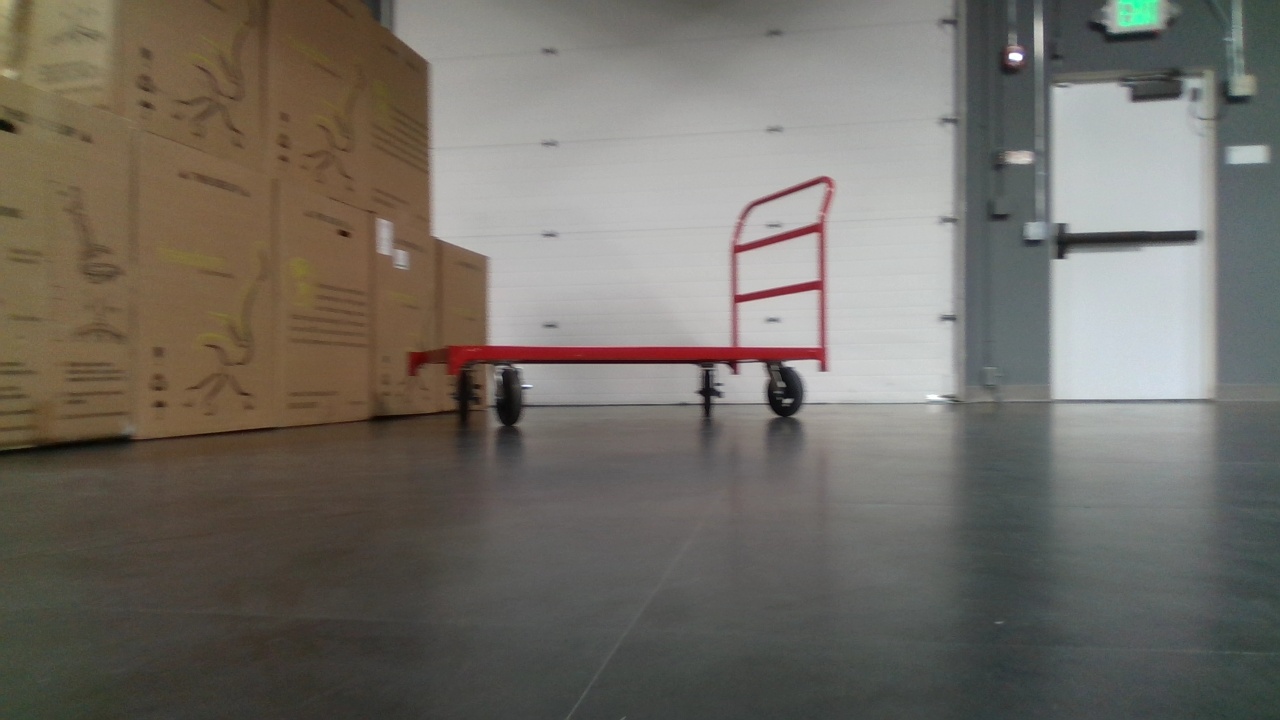Dolly: (400, 167, 842, 426)
Wheel: (767, 365, 807, 424), (495, 367, 529, 427), (449, 365, 479, 424), (698, 370, 724, 424)
